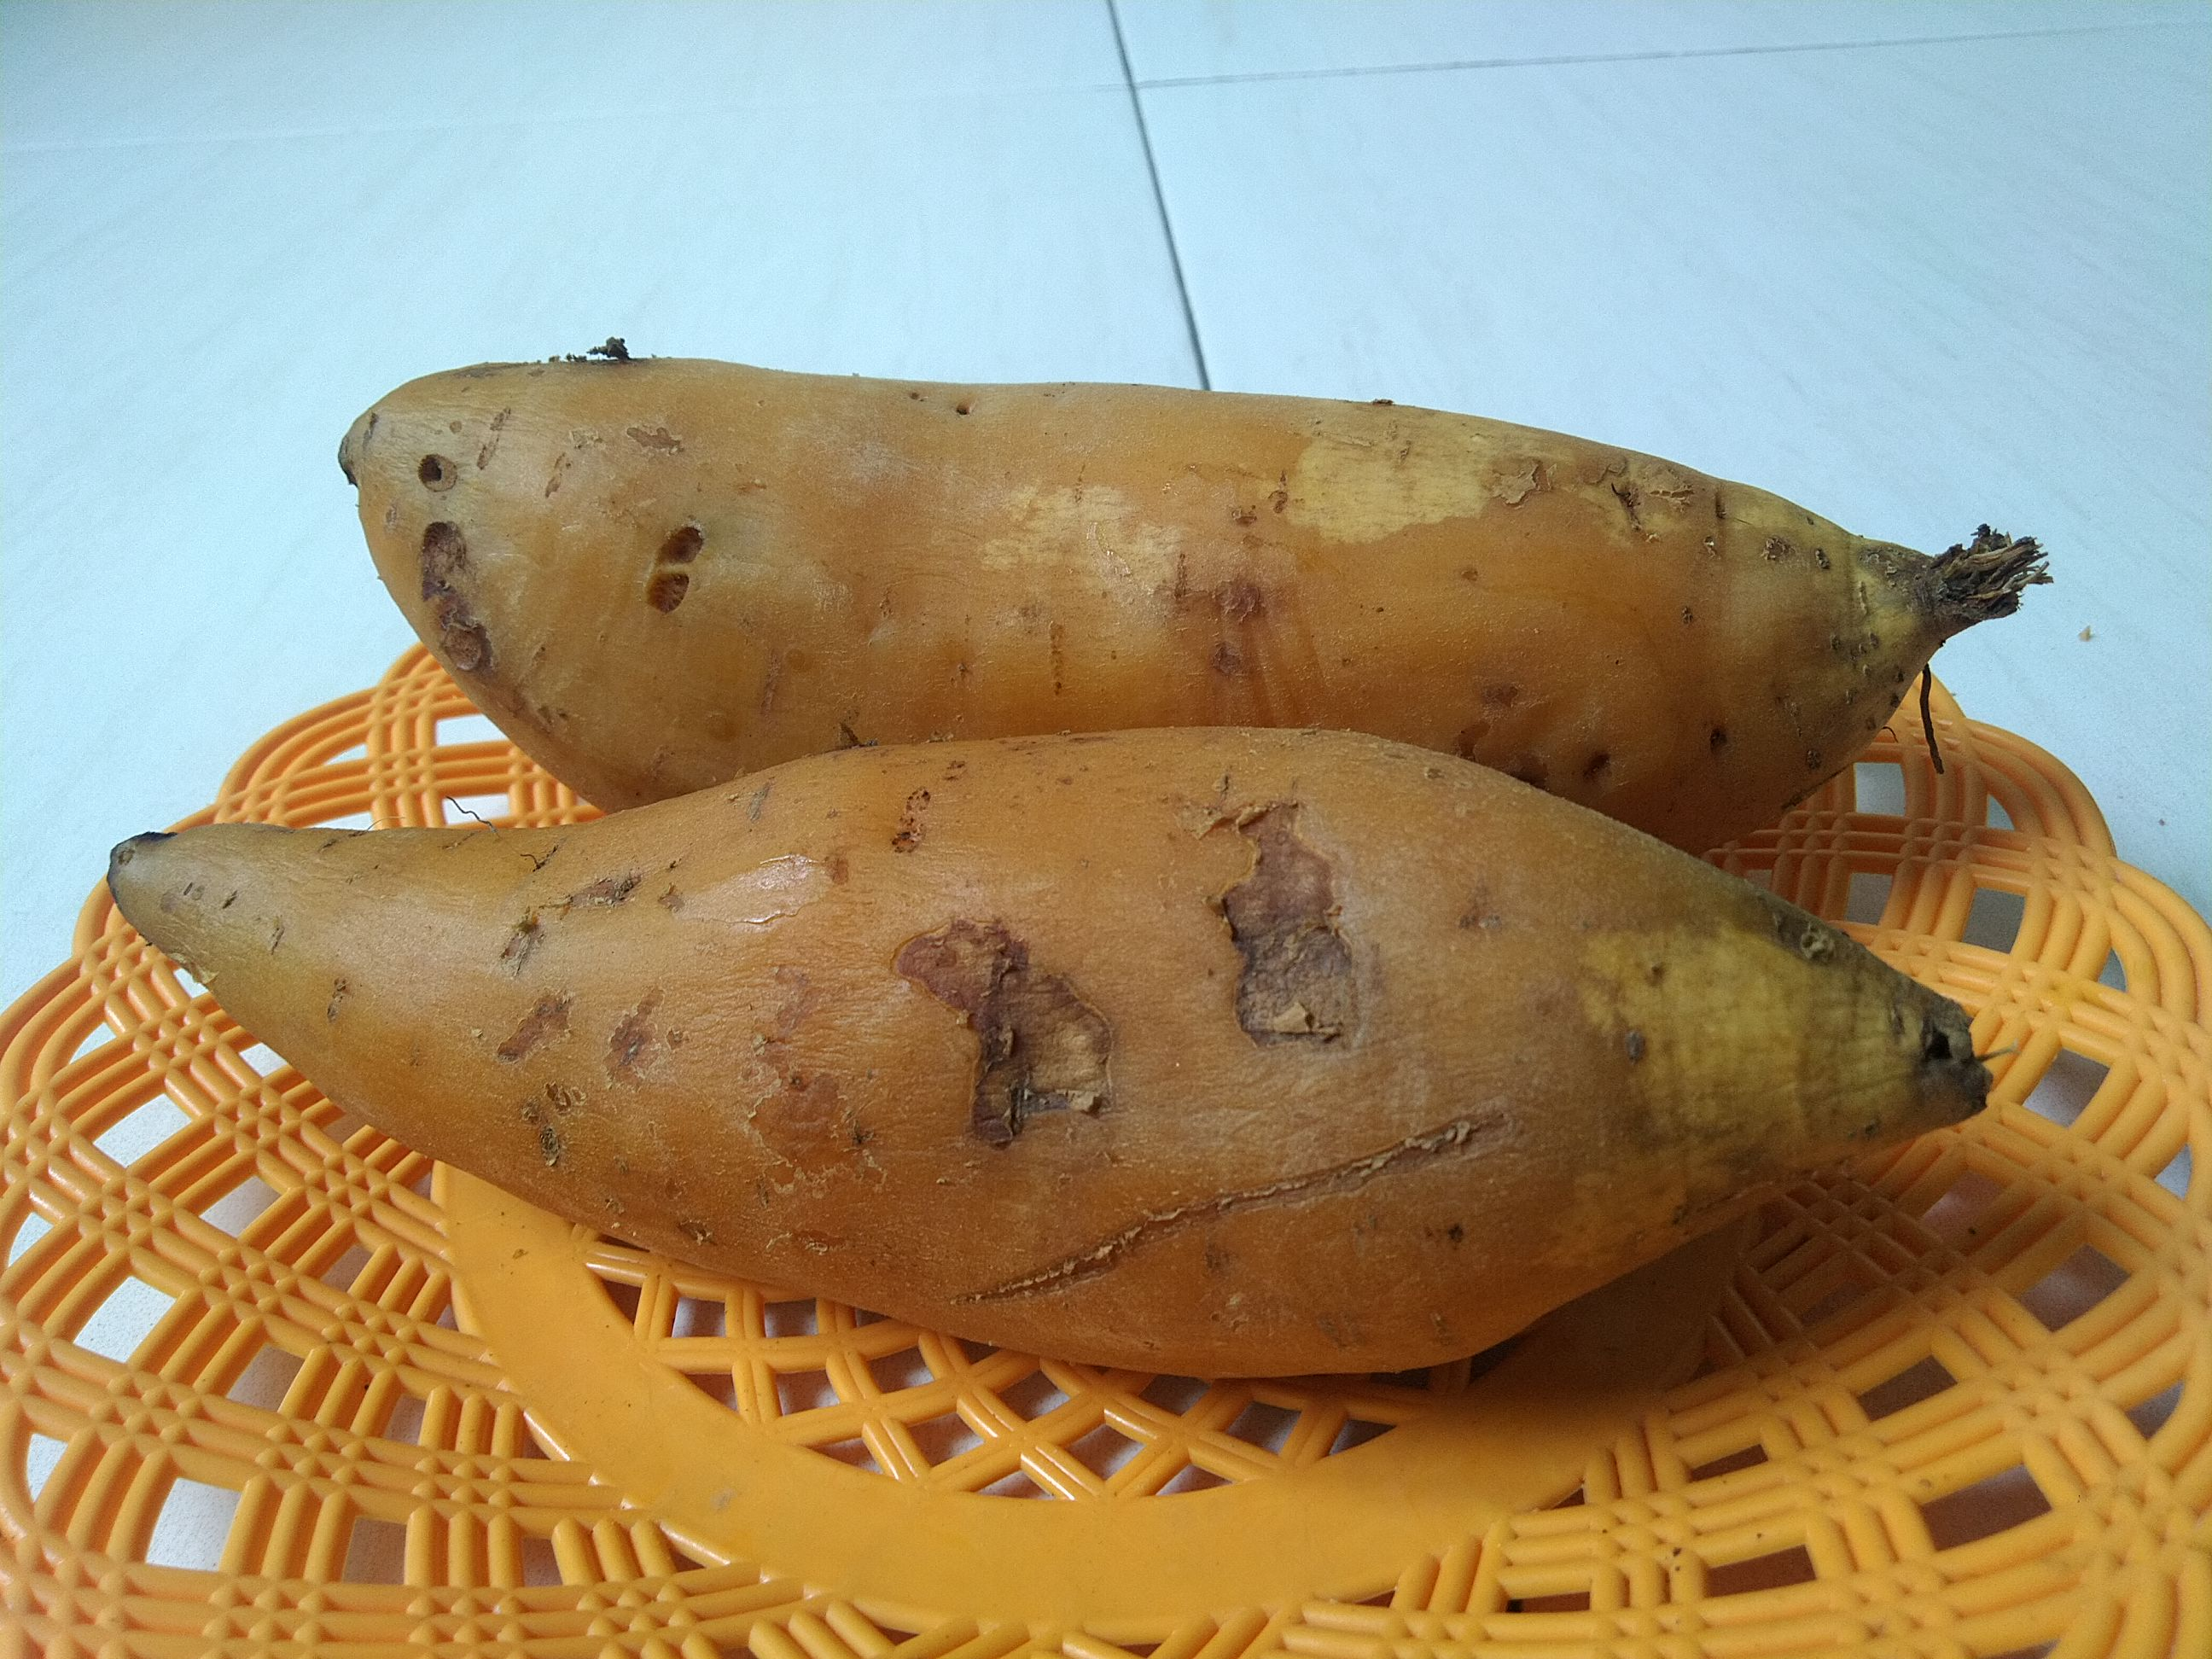ubi cilembu: (108, 343, 2045, 1378), (105, 714, 2027, 1382), (329, 355, 2064, 859)
